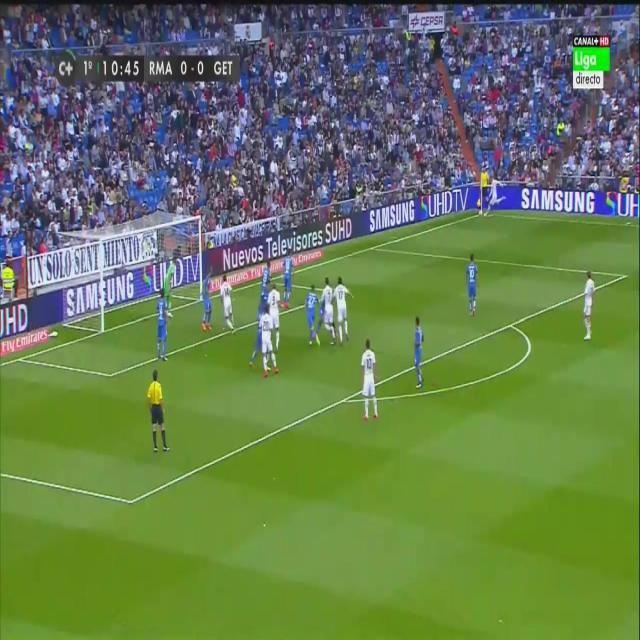Ball: (477, 209, 484, 220)
Goalkeeper: (165, 249, 178, 319)
Player: (258, 302, 281, 380), (360, 340, 381, 424), (334, 276, 355, 348), (218, 274, 239, 339), (320, 277, 340, 345), (581, 268, 598, 345), (304, 282, 321, 349), (412, 314, 426, 392), (200, 268, 215, 339), (483, 177, 507, 220), (156, 291, 170, 364), (465, 252, 480, 320), (282, 247, 298, 309), (268, 282, 282, 352), (261, 255, 273, 295)
Referee: (146, 368, 173, 456), (478, 167, 491, 210)
